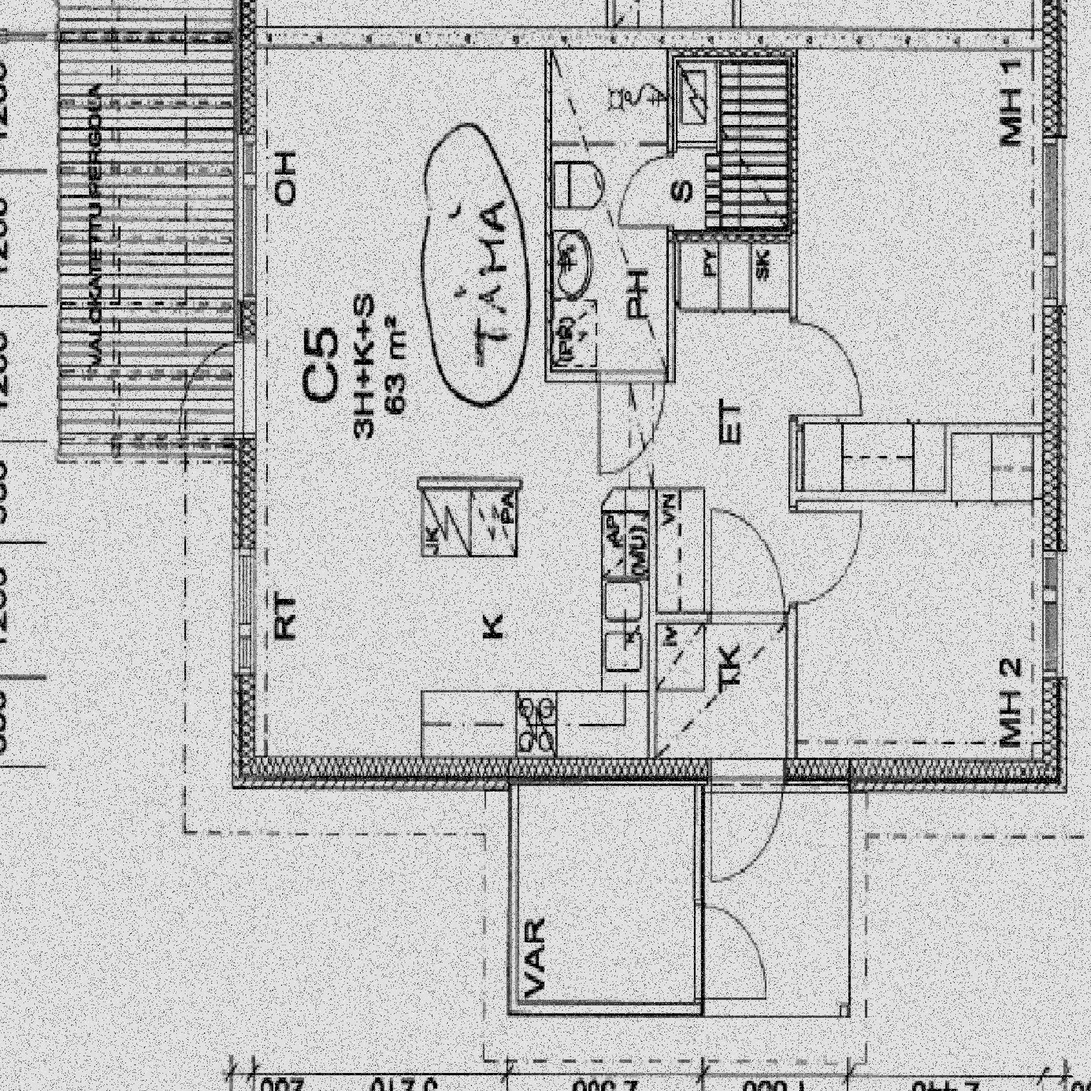wall: (1042, 26, 1067, 798), (233, 26, 256, 798), (695, 762, 1067, 798), (233, 26, 677, 50), (234, 762, 518, 798), (789, 26, 1067, 50), (789, 229, 797, 762), (518, 762, 694, 786), (667, 26, 797, 58), (508, 1004, 704, 1017), (545, 26, 552, 380), (0, 32, 233, 42), (695, 762, 704, 1017), (509, 762, 518, 1017), (667, 26, 677, 241), (649, 486, 656, 786), (789, 26, 797, 241), (790, 491, 952, 501), (649, 615, 789, 625), (677, 230, 797, 241), (544, 370, 674, 380), (945, 422, 1068, 432), (417, 477, 521, 487), (667, 240, 674, 380), (945, 422, 952, 501)
